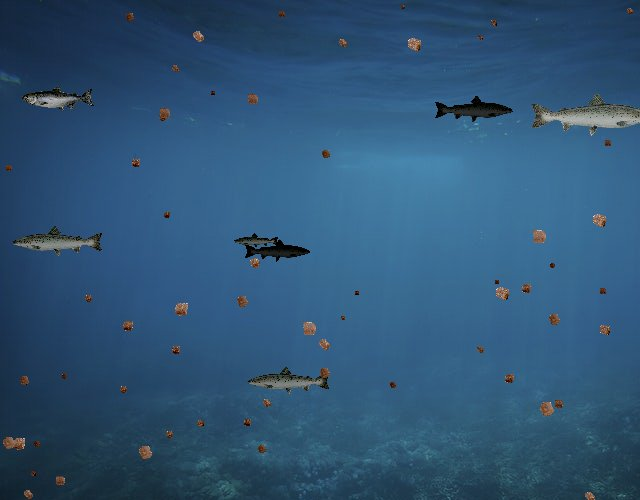Fish: (528, 91, 640, 137), (11, 225, 105, 259), (246, 365, 332, 396), (433, 94, 514, 123), (22, 86, 95, 112), (243, 239, 311, 263), (233, 232, 280, 249)
Pellet: (167, 295, 195, 323), (186, 24, 211, 49), (312, 332, 336, 356), (230, 289, 254, 313), (243, 252, 266, 275), (14, 371, 35, 392), (167, 60, 184, 77), (486, 16, 501, 30), (546, 259, 559, 272), (27, 467, 39, 479)
